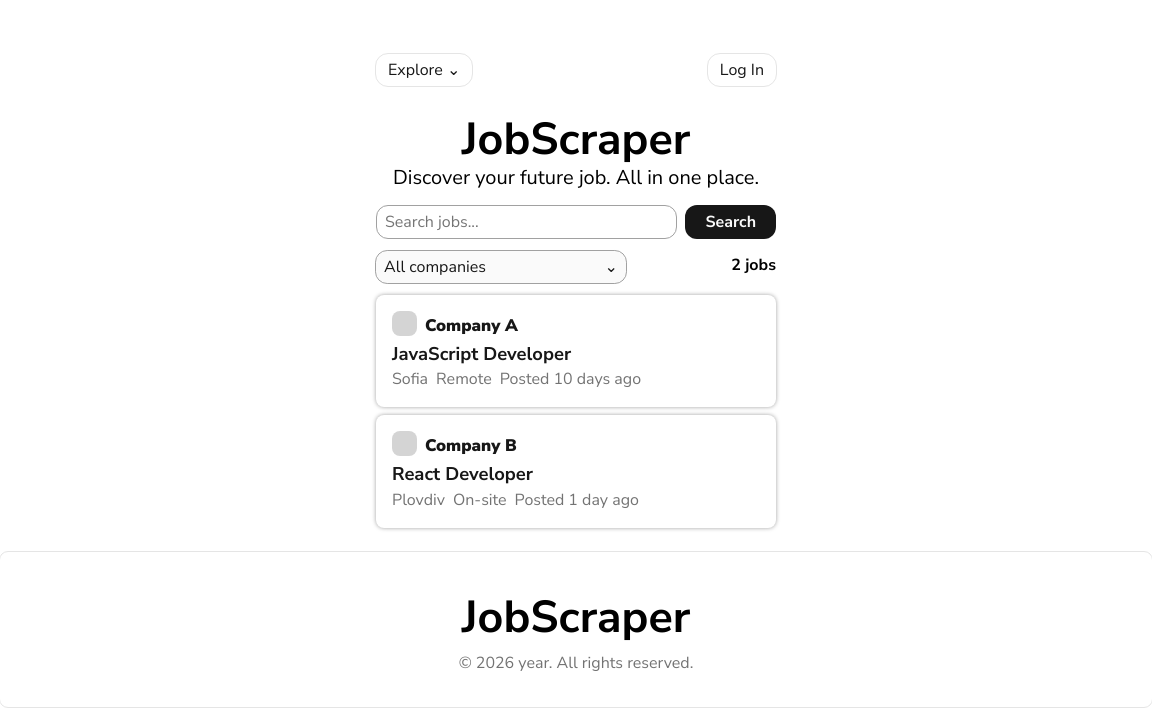
it: render RenderCompanies › render the companies clicking on edit company should render the form
Click the link "Log In" at (742, 70), box [720,59,764,81]
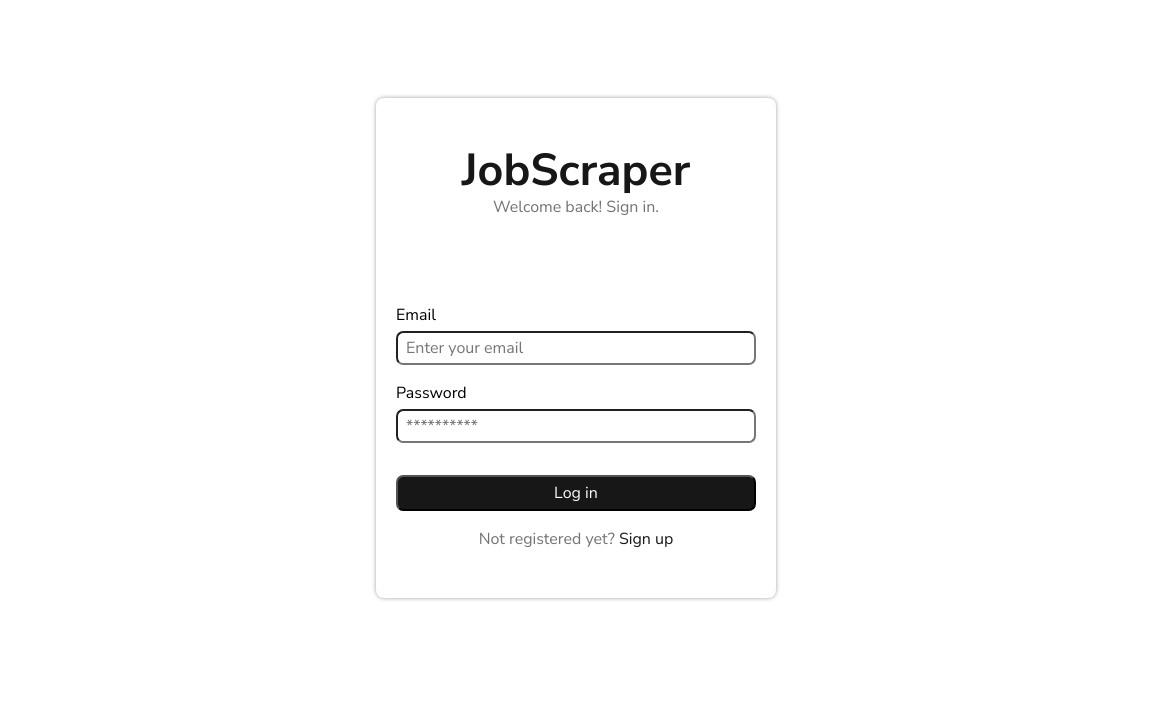
Type "testing@abv.bg" into the field labelled "Email" at (576, 348), box [396,331,756,365]
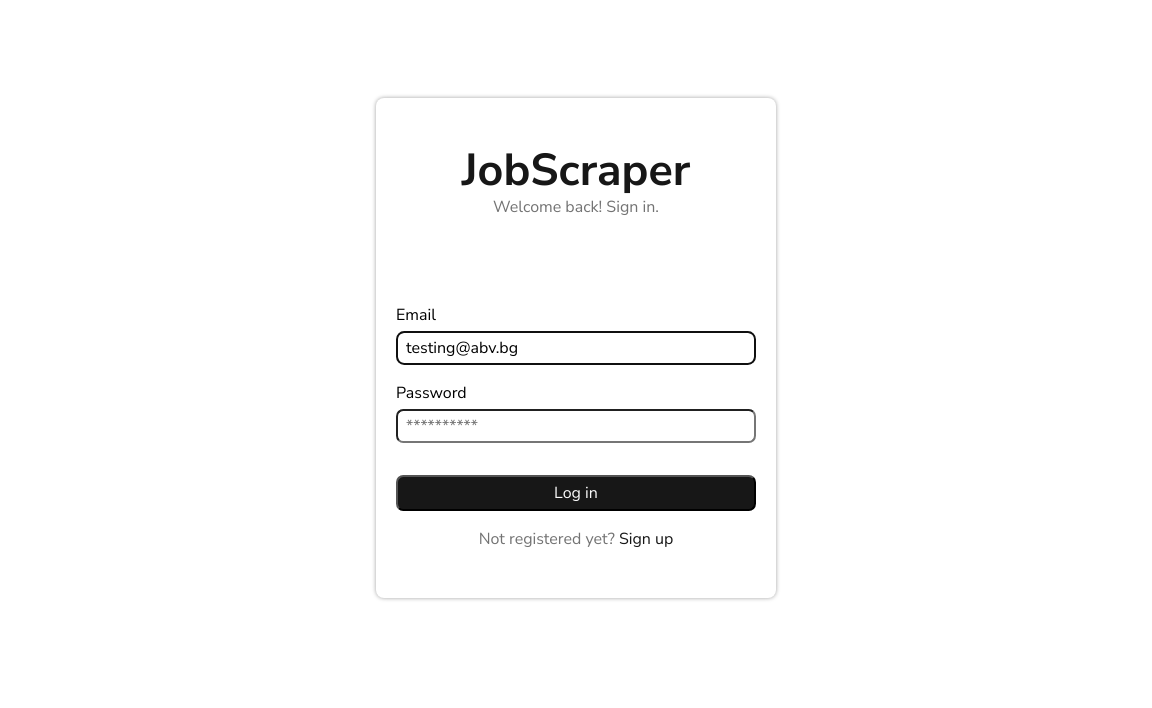
Type "12345678BG" into the password field labelled "Password" at (576, 426), box [396,409,756,443]
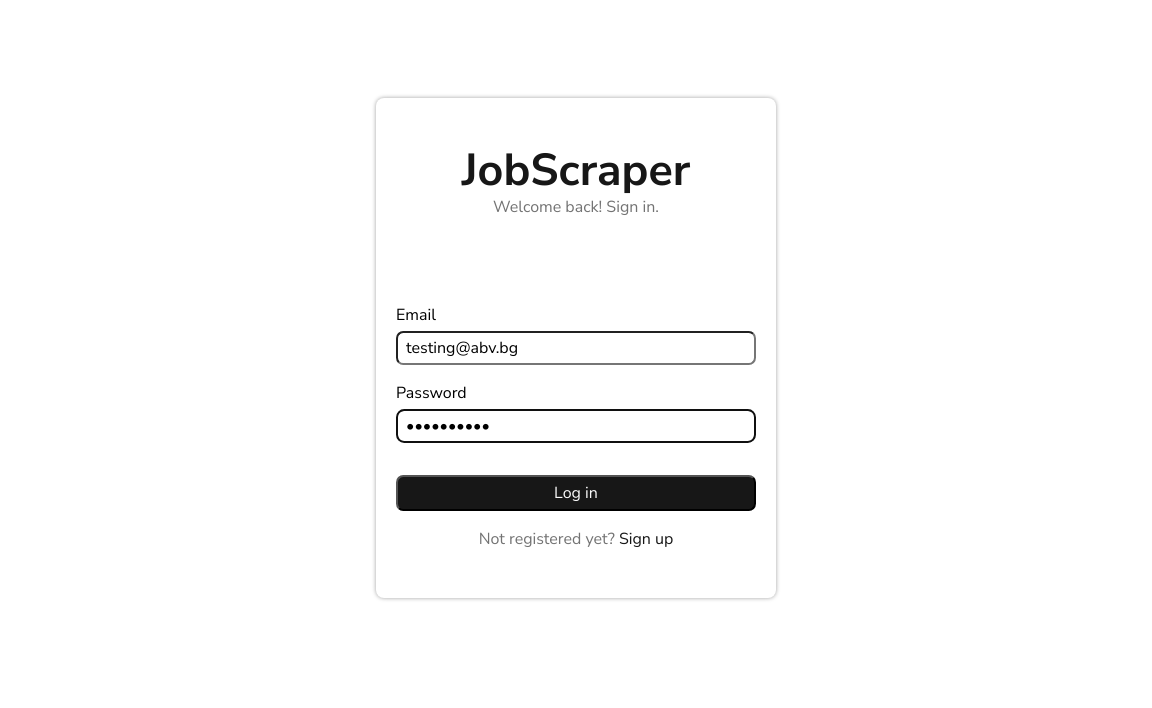
Click the button "Log in" at (576, 493), box [396,475,756,511]
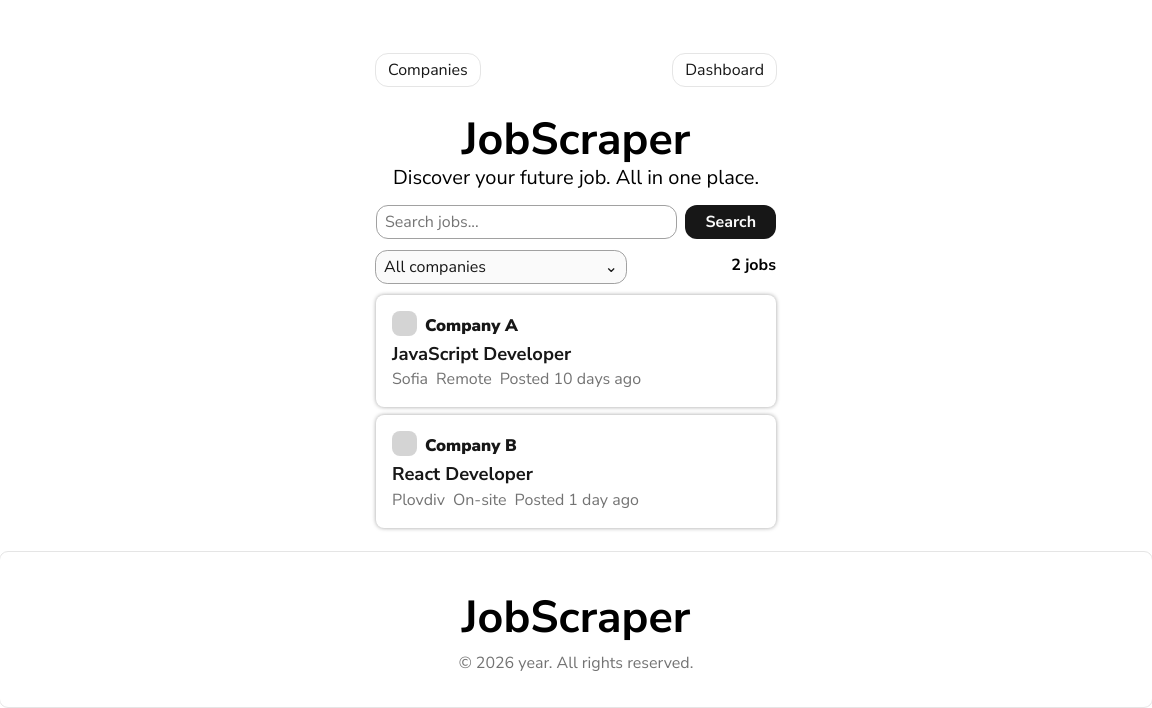
Expected: the link "Companies" is shown
Click the link "Companies" at (428, 70), box [388,59,468,81]
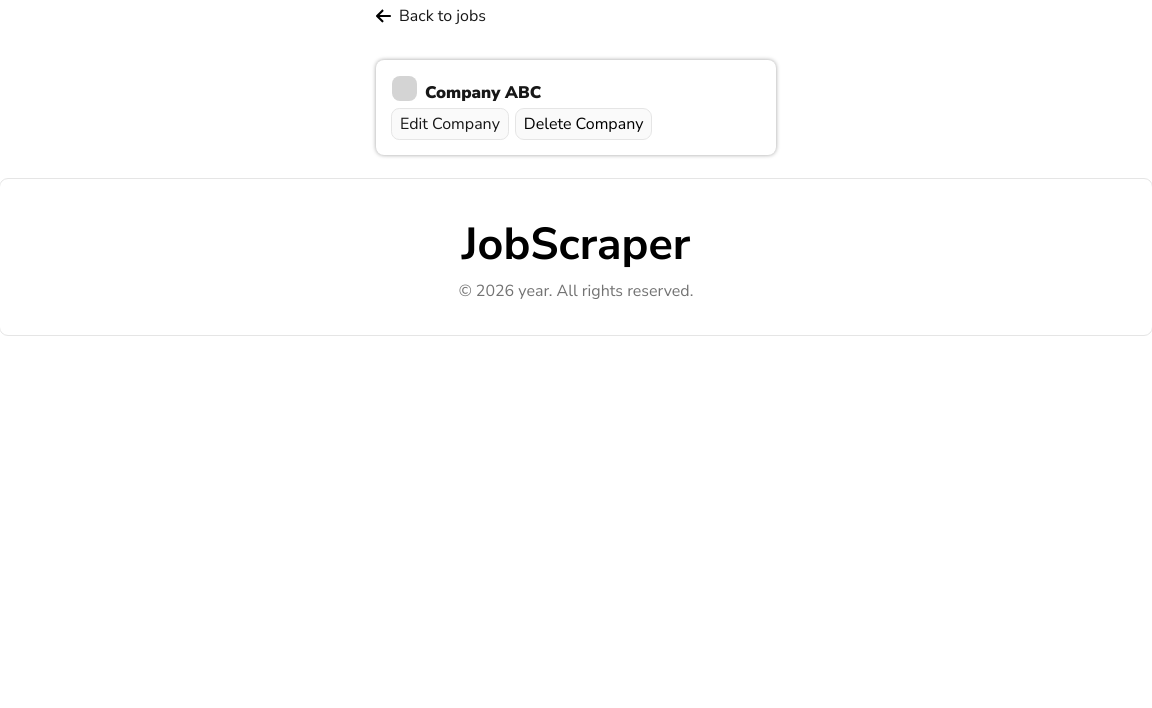
Expected: the heading "Company ABC" is shown, [425,80,541,105]
Click the link "Edit Company" at (450, 124), box [392,109,508,139]
(page scrolled)
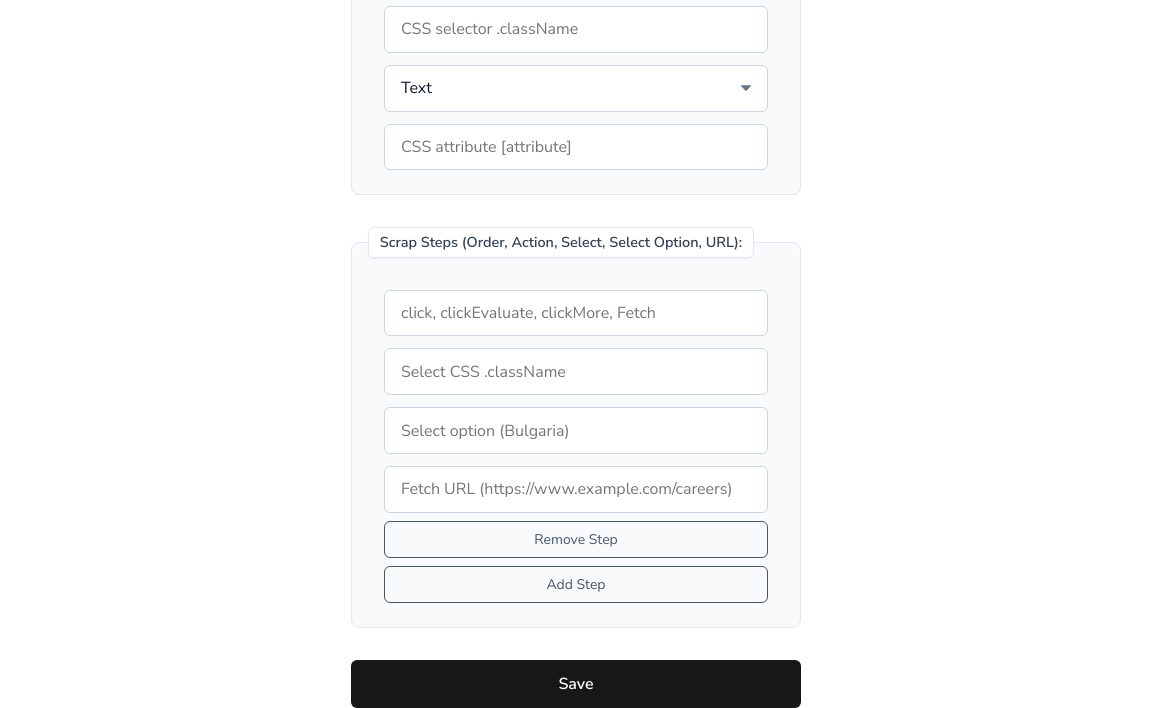
Expected: the text named "steps-legend" is shown, [368,227,754,258]
Expected: the button "Add Step" is shown, [384,566,768,603]
Expected: the button "Save" is shown, [351,660,801,707]
